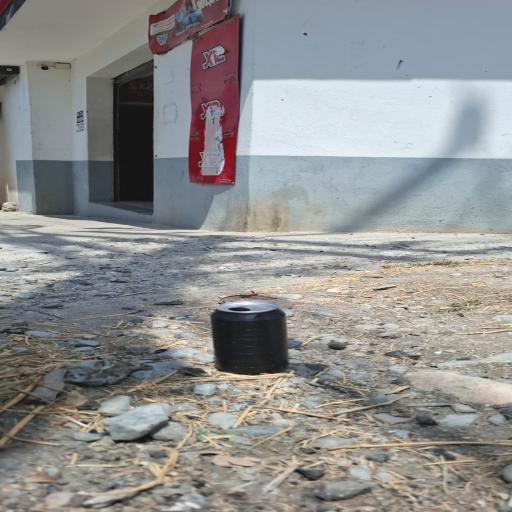LATA: (188, 300, 302, 376)
